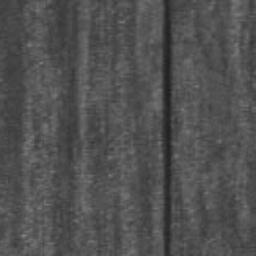Scratches: (162, 0, 172, 256)
